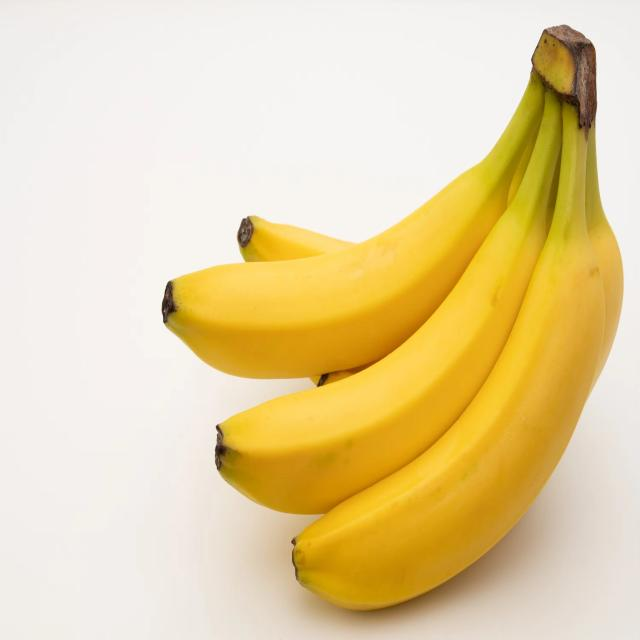chuoi: (161, 27, 620, 613)
